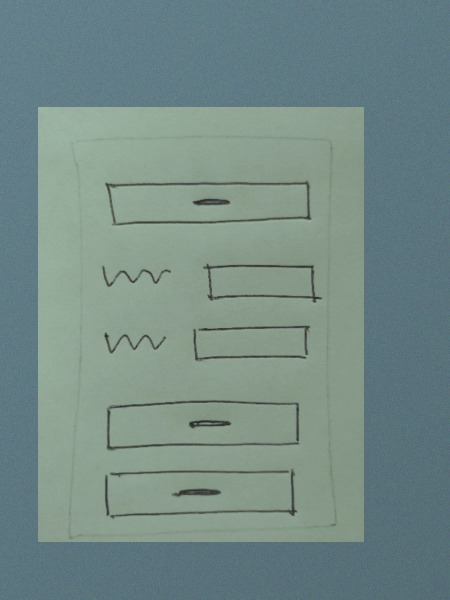button: (102, 175, 315, 238), (104, 395, 303, 455), (98, 467, 303, 522)
text: (98, 254, 175, 292), (101, 325, 171, 359)
text_input: (198, 258, 323, 308), (187, 321, 316, 364)
